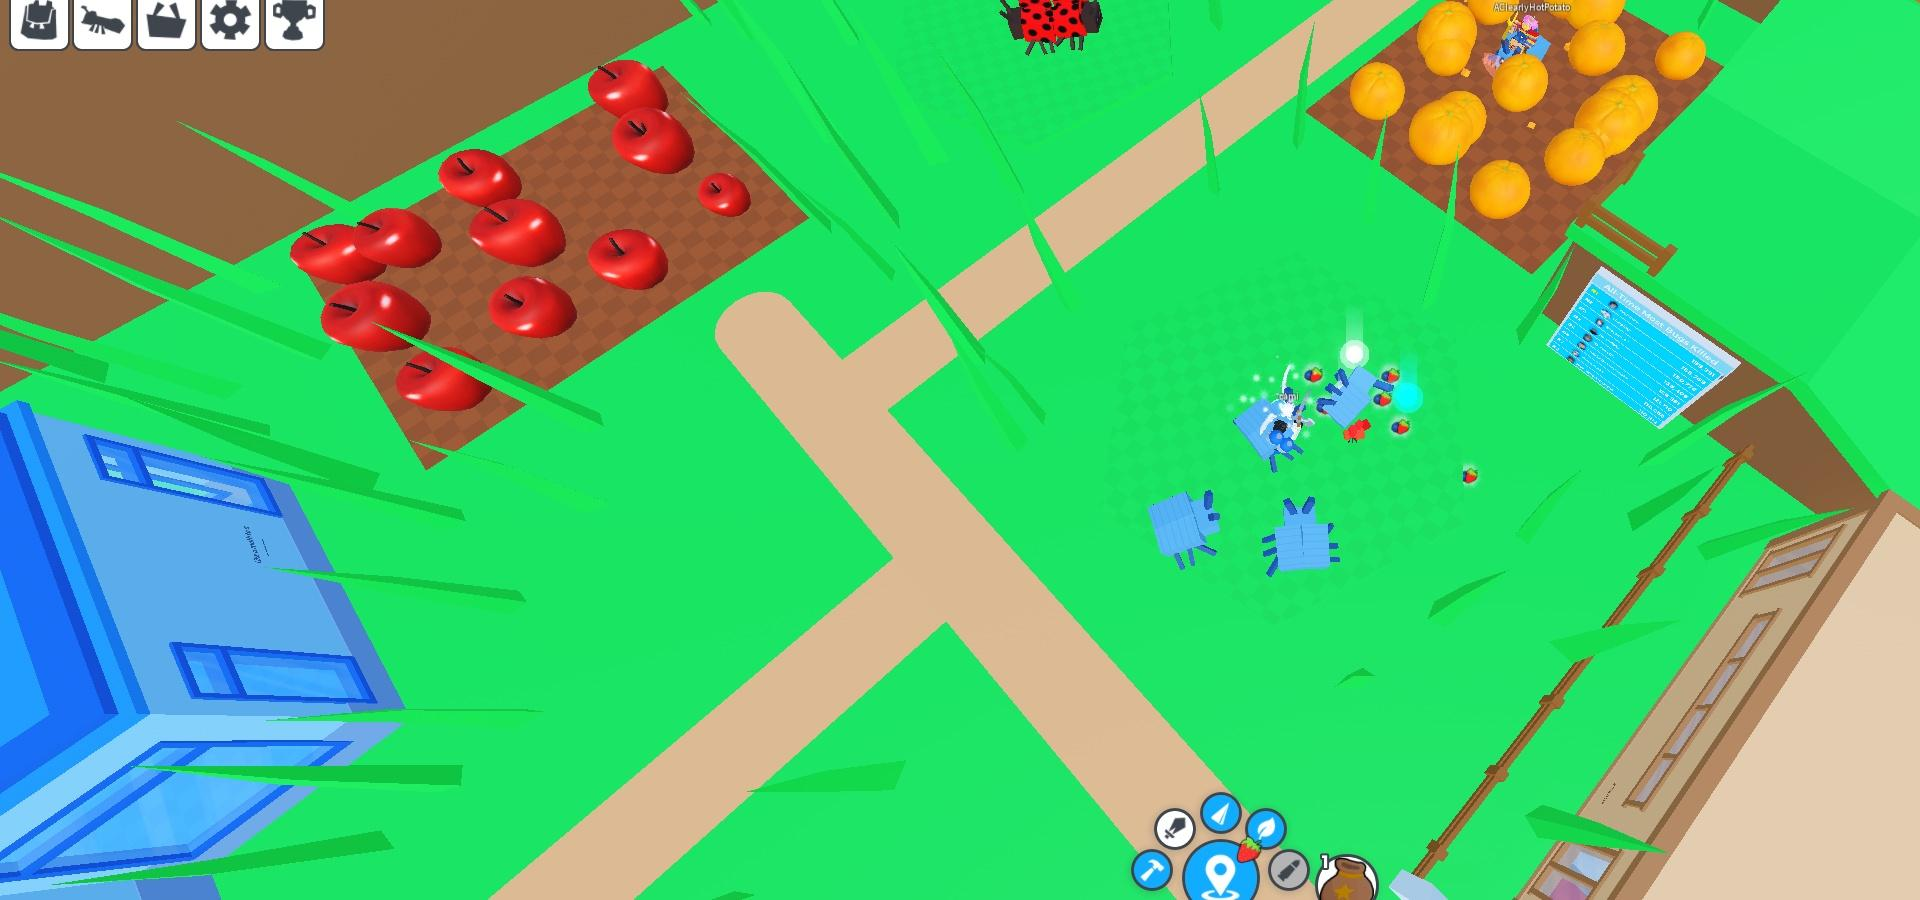Enemy: (1233, 392, 1311, 474), (1146, 489, 1220, 572), (989, 0, 1093, 55), (1311, 362, 1382, 432), (1269, 509, 1336, 574)
